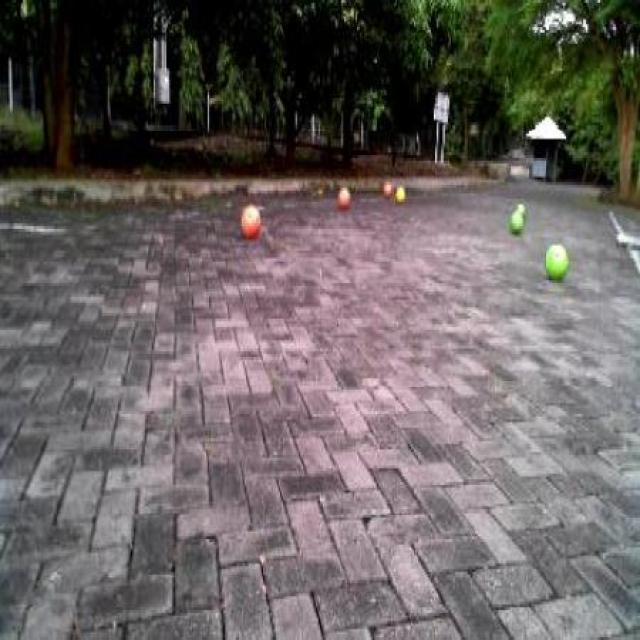buoy: (537, 229, 574, 292), (234, 196, 264, 242), (330, 172, 356, 218), (504, 190, 527, 242), (389, 174, 406, 210), (380, 170, 392, 198)
